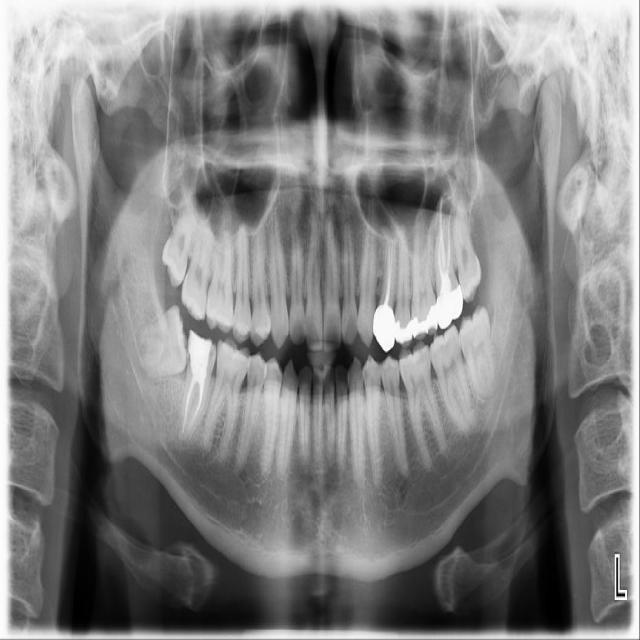3M ESPE Implant: (155, 183, 204, 290)
52: (428, 283, 473, 328), (408, 292, 440, 342), (184, 328, 219, 373), (371, 304, 397, 354), (393, 306, 413, 350)
73: (428, 196, 459, 301), (176, 365, 214, 445), (378, 237, 402, 312), (602, 538, 608, 554)
BioHorizons Implant: (427, 194, 466, 332)
BioLife Implant: (447, 190, 484, 307)
Biomet 3i Implant: (452, 301, 502, 405)
Blue Sky Bio Implant: (423, 326, 482, 439)
Caries: (178, 205, 216, 325)
Implant: (175, 330, 219, 446)
Keystone Dental Implant: (126, 304, 196, 383)
